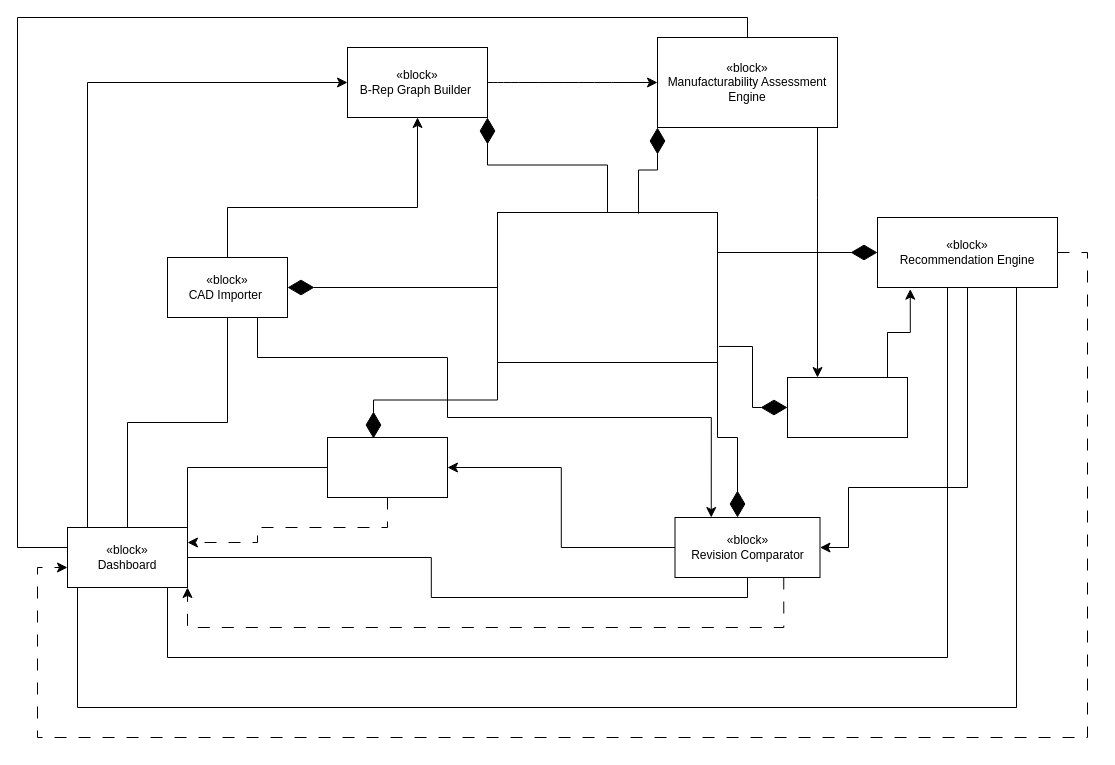
The diagram is 1115 pixels wide and 765 high, and some of its shapes have lost their labels. Here are the shapes that lost their labels. From the top down, the box of each, then its label:
(496, 212, 718, 362): «block» ManuLoop
(786, 376, 908, 438): «block» Explainability Layer
(326, 436, 448, 498): «block» FMEA Mapper
